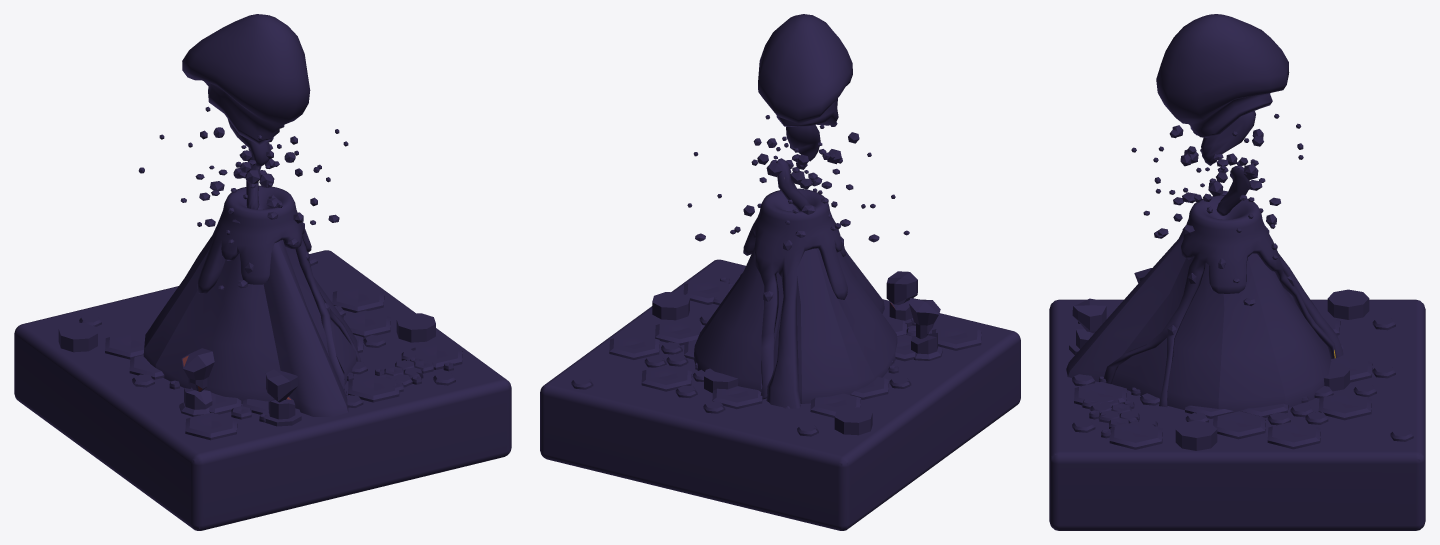
The model's file is isla volcan1.fbx.
The picture shows the model from 3 angles, left to right: view 1: azimuth 30°, elevation 25°; view 2: azimuth 150°, elevation 25°; view 3: azimuth 270°, elevation 25°; orthographic projection. The views are drawn at different scales.
Visible parts, largest first — view 1: pCube2; view 2: pCube2; view 3: pCube2.
Boxes of the visible parts, x1=… form: pCube2: x1=14, y1=14, x2=511, y2=530; pCube2: x1=540, y1=14, x2=1020, y2=530; pCube2: x1=1049, y1=14, x2=1425, y2=530.
Bounding box in the file's own units: 14.14 × 17.93 × 14.14.
